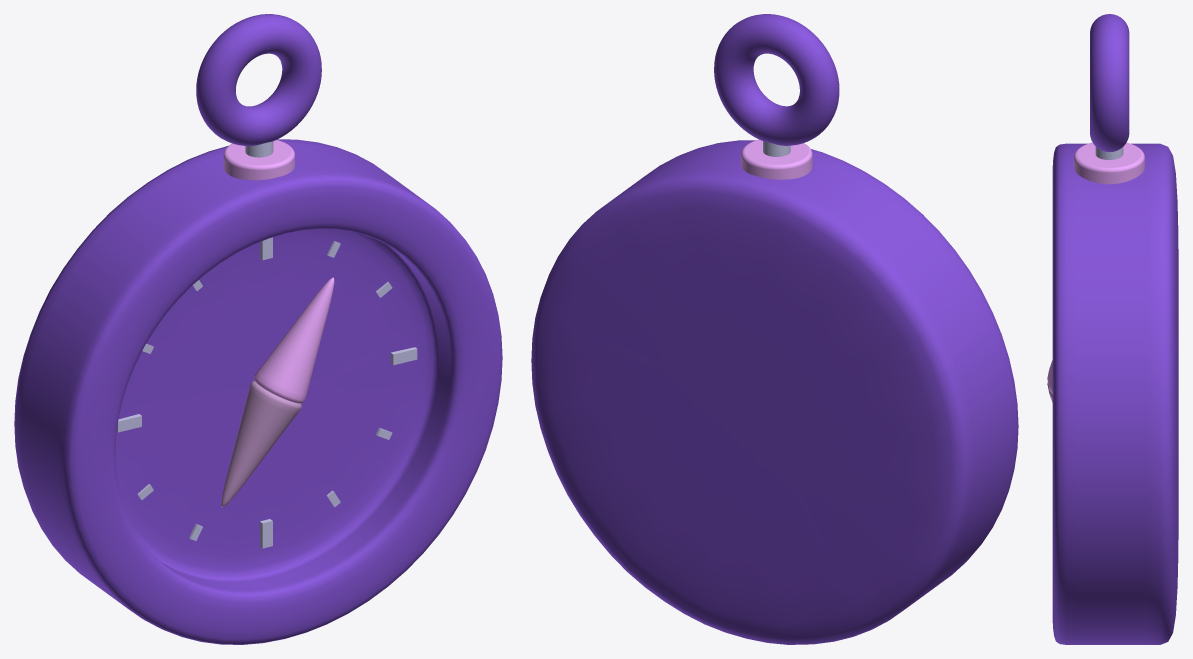
Rendered from compass.gltf.
3 renders of one model, left to right at view 1: azimuth 30°, elevation 25°; view 2: azimuth 150°, elevation 25°; view 3: azimuth 270°, elevation 25°, orthographic.
Visible parts, largest first — view 1: Cylinder, Torus, Cube, Cube 2, compass, Cylinder 3; view 2: Cylinder, Torus, Cylinder 3; view 3: Cylinder, Torus, Cylinder 3, Cylinder 2.
Part boxes in pixels (box(x1,y1,x2,y2)): Cylinder: box(14, 139, 502, 644); Torus: box(196, 14, 321, 146); Cube: box(254, 277, 334, 403); Cube 2: box(221, 381, 301, 507); compass: box(116, 237, 417, 548); Cylinder 3: box(223, 140, 294, 180); Cylinder: box(531, 140, 1018, 644); Torus: box(714, 14, 839, 145); Cylinder 3: box(741, 139, 812, 179); Cylinder: box(1052, 143, 1178, 644); Torus: box(1090, 14, 1129, 152); Cylinder 3: box(1073, 142, 1144, 184); Cylinder 2: box(1095, 147, 1123, 159).
Size of the model in its own units: 1.39 by 1.84 by 0.3645.
